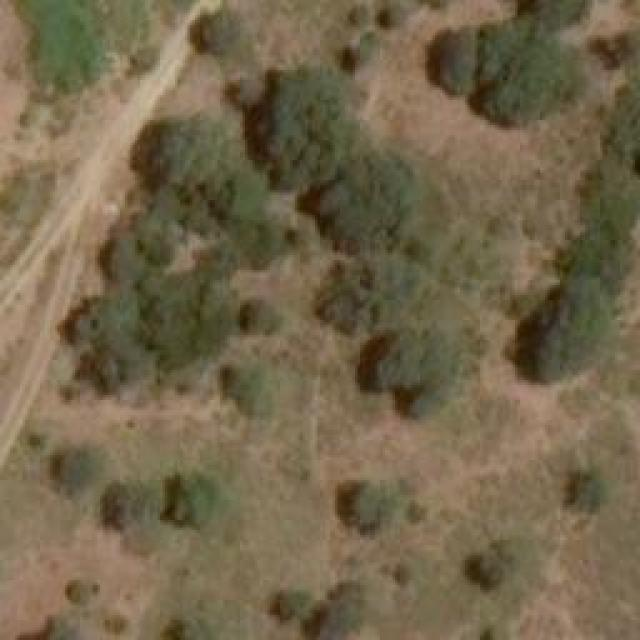Tree: (255, 73, 348, 188), (518, 278, 611, 391), (472, 20, 570, 118), (128, 105, 234, 194), (138, 269, 238, 362), (206, 178, 301, 262), (328, 153, 413, 246), (22, 5, 110, 90), (322, 253, 410, 328), (365, 328, 448, 388), (61, 286, 131, 349), (77, 337, 148, 399), (418, 27, 471, 95), (160, 470, 213, 533), (215, 357, 270, 415), (190, 10, 250, 63), (98, 230, 151, 286), (308, 590, 358, 640), (511, 0, 595, 28), (337, 482, 385, 530), (40, 445, 90, 490), (565, 470, 610, 518), (188, 239, 238, 282), (100, 488, 145, 531), (240, 300, 278, 335), (125, 43, 160, 76), (384, 555, 417, 589), (468, 553, 501, 586), (65, 580, 95, 608), (378, 2, 408, 30), (230, 77, 258, 105), (275, 588, 303, 613), (347, 1, 371, 27), (168, 622, 198, 640), (105, 615, 128, 635), (25, 430, 45, 448)
